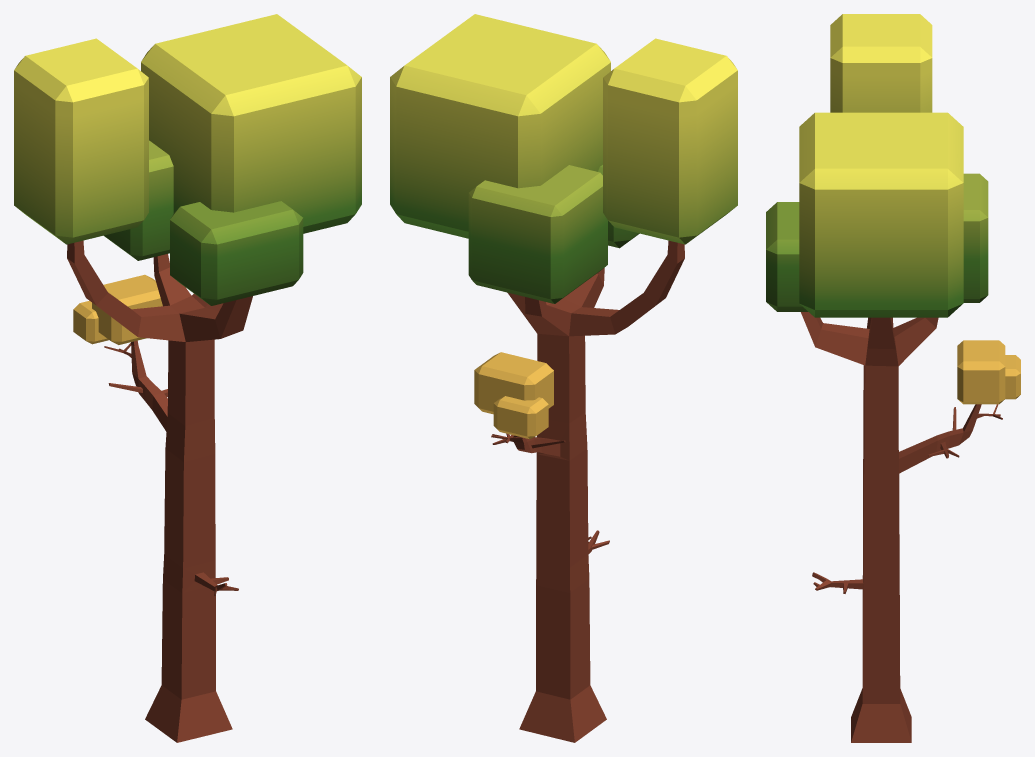
Rendered from untitled.glft.glb.
3 views of the same model, side by side, from view 1: azimuth 30°, elevation 25°; view 2: azimuth 150°, elevation 25°; view 3: azimuth 270°, elevation 25° (orthographic). The views are drawn at different scales.
Parts seen in each view (by area): view 1: cube tree; view 2: cube tree; view 3: cube tree.
Boxes of the visible parts, x1,y1,x2,y2 form: cube tree: (14, 14, 361, 742); cube tree: (390, 14, 737, 742); cube tree: (766, 14, 1020, 742).
Bounding box in the file's own units: 3.15 × 7.09 × 2.52.
2 materials, 1 textured.
